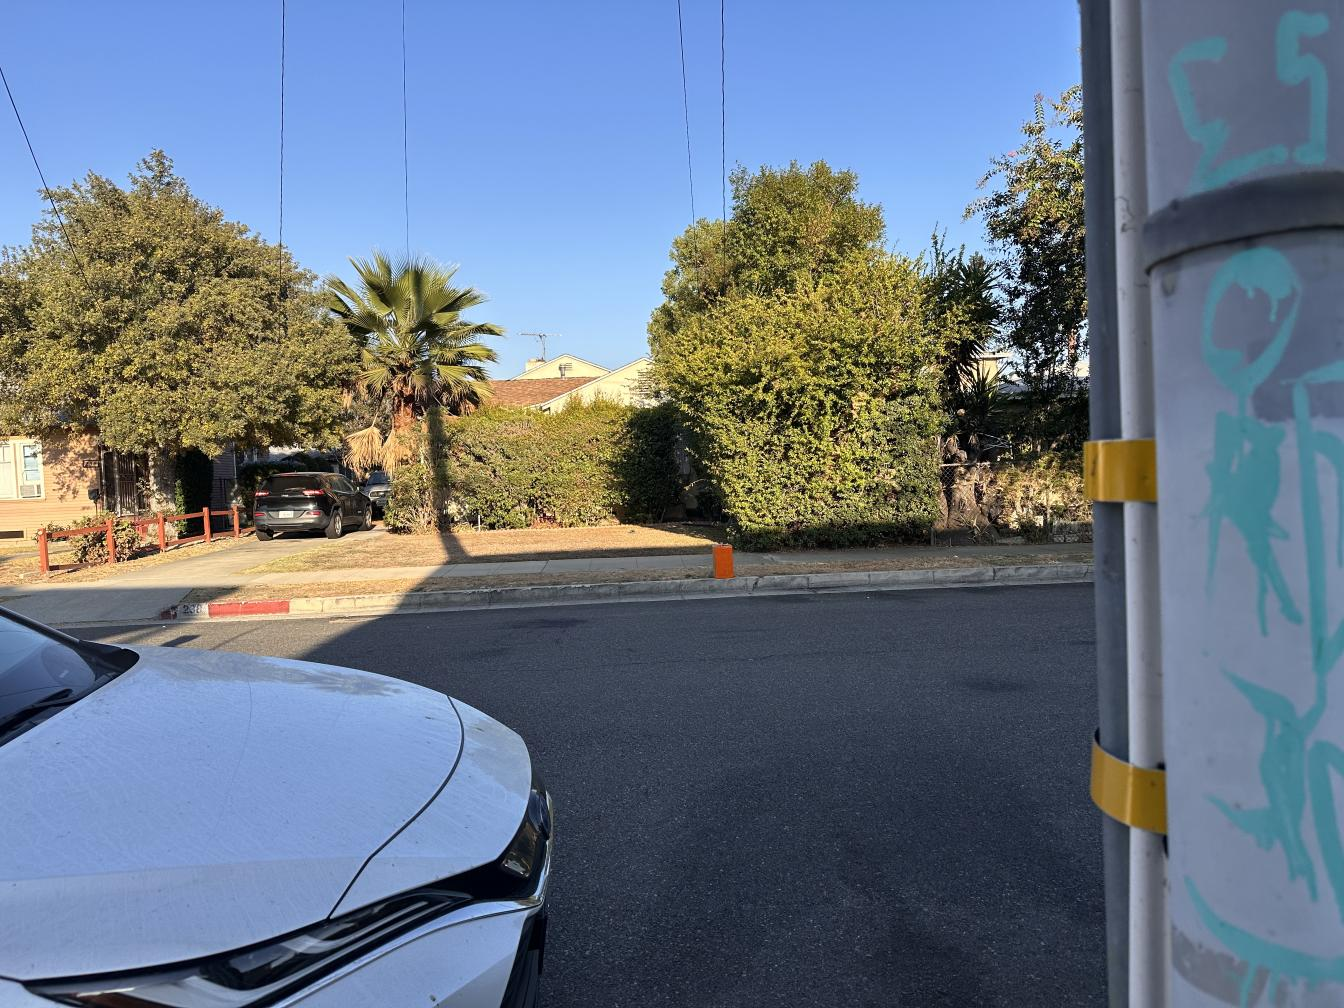curbs-laRr: (517, 581, 731, 601), (291, 591, 516, 610), (733, 577, 945, 594), (944, 569, 1093, 582)
orange box: (712, 543, 733, 577)
